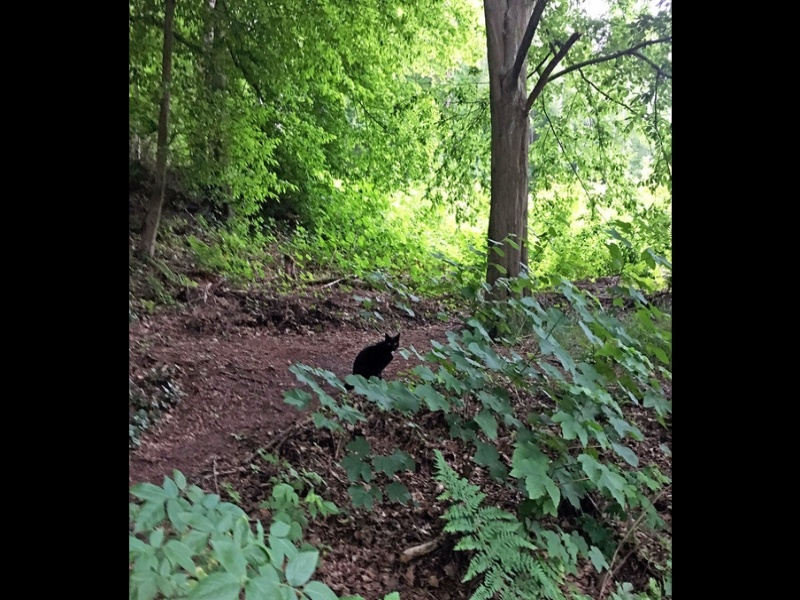cat: (348, 330, 403, 384)
